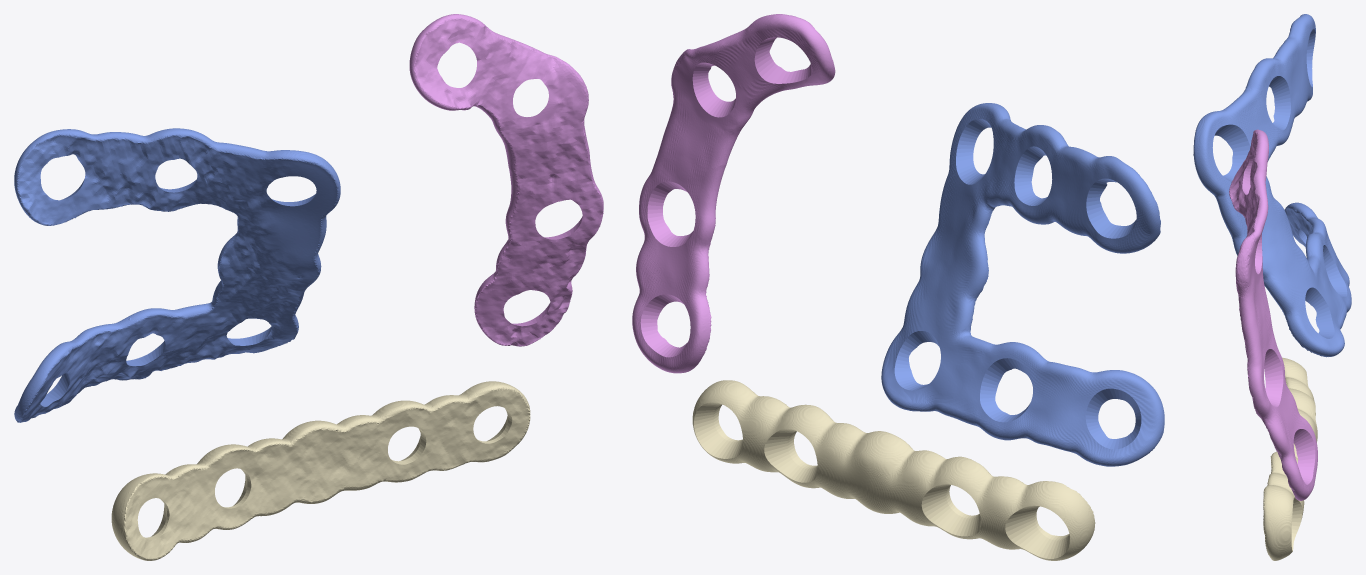
File: plate-3-v2.glb
The picture shows the model from 3 angles, left to right: view 1: azimuth 30°, elevation 25°; view 2: azimuth 150°, elevation 25°; view 3: azimuth 270°, elevation 25°; orthographic projection. The views are drawn at different scales.
Parts seen in each view (by area): view 1: 上左-ㄈ字型02, 下左-一字型02, 上左-L字型02; view 2: 上左-ㄈ字型02, 下左-一字型02, 上左-L字型02; view 3: 上左-ㄈ字型02, 上左-L字型02, 下左-一字型02.
Part boxes in pixels (box(x1,y1,x2,y2)): 上左-ㄈ字型02: box(14, 128, 340, 422); 下左-一字型02: box(111, 381, 530, 560); 上左-L字型02: box(409, 14, 603, 346); 上左-ㄈ字型02: box(881, 103, 1164, 466); 下左-一字型02: box(692, 380, 1095, 560); 上左-L字型02: box(632, 14, 835, 373); 上左-ㄈ字型02: box(1193, 14, 1351, 357); 上左-L字型02: box(1229, 129, 1317, 500); 下左-一字型02: box(1263, 357, 1317, 560).
Bounding box in the file's own units: 0.5294 × 0.4337 × 0.1494.
3 materials, 3 textured.
